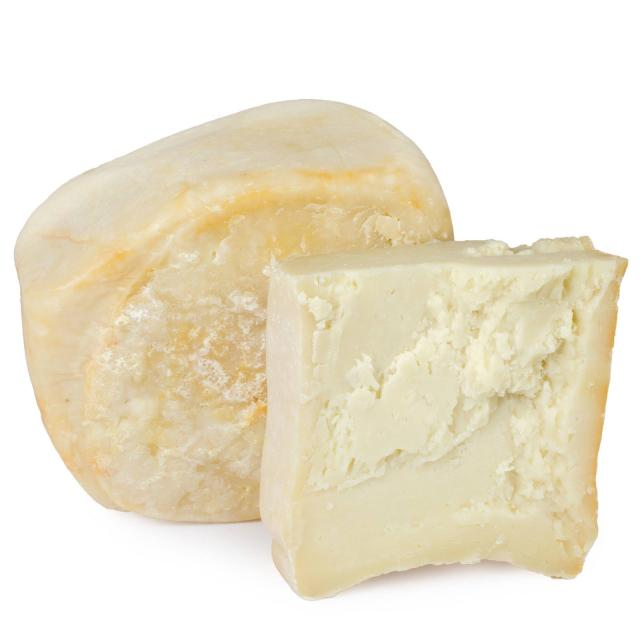Cheese: (9, 104, 458, 534), (248, 215, 620, 613)
